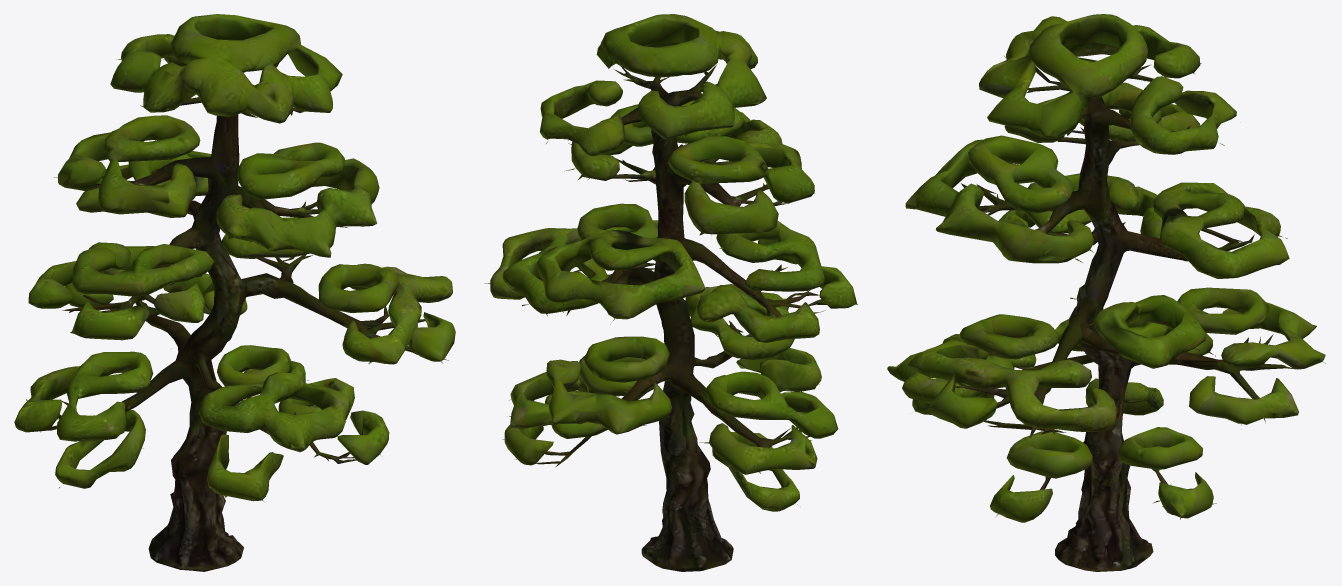
The model's file is ZaoXingWuZhenSong.glb.
3 views of the same model, side by side, from view 1: azimuth 30°, elevation 25°; view 2: azimuth 150°, elevation 25°; view 3: azimuth 270°, elevation 25° (orthographic). The views are drawn at different scales.
Parts seen in each view (by area): view 1: tripo_node_0e46bb5e-5f8d-442c-ac20-e7a77803500c; view 2: tripo_node_0e46bb5e-5f8d-442c-ac20-e7a77803500c; view 3: tripo_node_0e46bb5e-5f8d-442c-ac20-e7a77803500c.
Boxes of the visible parts, left/top/right/bottom form: tripo_node_0e46bb5e-5f8d-442c-ac20-e7a77803500c: left=14, top=14, right=455, bottom=571; tripo_node_0e46bb5e-5f8d-442c-ac20-e7a77803500c: left=484, top=14, right=857, bottom=571; tripo_node_0e46bb5e-5f8d-442c-ac20-e7a77803500c: left=887, top=14, right=1325, bottom=571.
Size of the model in its own units: 0.7332 by 0.9788 by 0.7294.
Materials: 1 (1 with a texture image).
